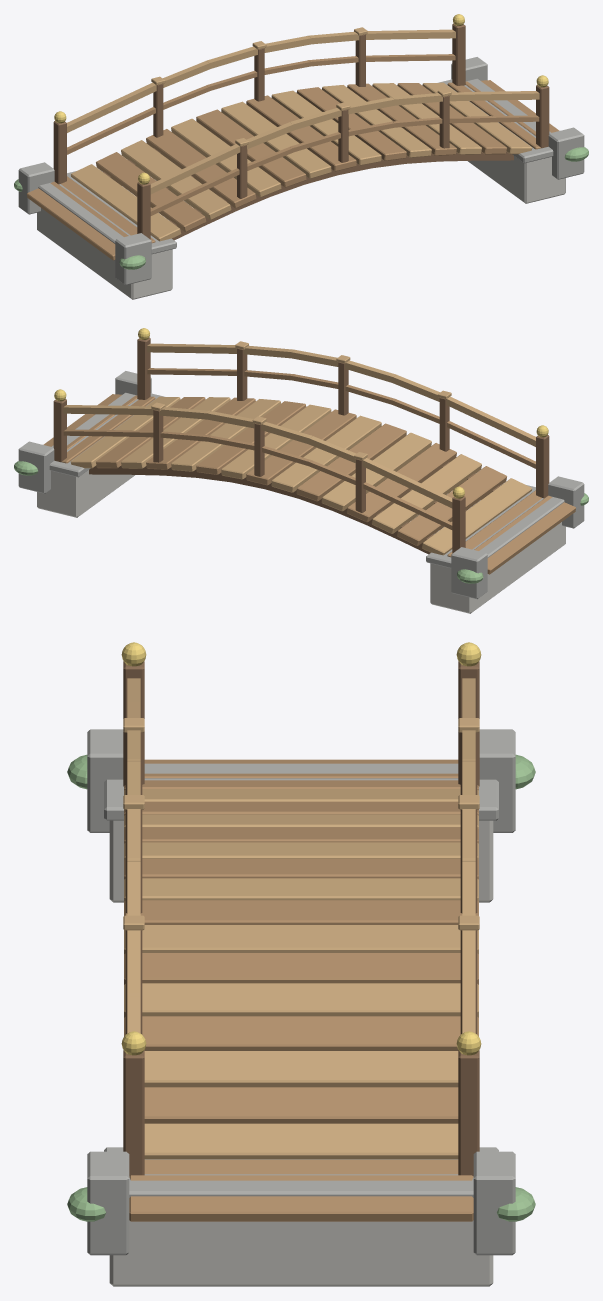
File: bridge.glb
The picture shows the model from 3 angles, top to bottom: view 1: azimuth 30°, elevation 25°; view 2: azimuth 150°, elevation 25°; view 3: azimuth 270°, elevation 25°; orthographic projection. The views are drawn at different scales.
Visible parts, largest first — view 1: AbutmentCore_-1, AbutmentCore_1, Plank_3, Plank_1, Plank_2, Plank_4, Plank_6, Plank_7, Plank_5, EntryRamp_-1, Plank_8, AbutmentCap_-1 (+44 smaller); view 2: AbutmentCore_-1, AbutmentCore_1, Plank_3, Plank_1, Plank_2, Plank_4, Plank_6, Plank_7, Plank_5, EntryRamp_-1, Plank_8, AbutmentCap_-1 (+42 smaller); view 3: AbutmentCore_1, Plank_14, Plank_13, Plank_15, Plank_12, EntryRamp_1, Plank_11, Plank_10, Plank_9, Plank_8, Plank_7, AbutmentCap_1 (+23 smaller).
Boxes of the visible parts, x1,y1,x2,y2 form: AbutmentCore_-1: [37, 208, 172, 299]; AbutmentCore_1: [468, 156, 565, 203]; Plank_3: [121, 140, 231, 219]; Plank_1: [71, 164, 181, 241]; Plank_2: [96, 152, 206, 231]; Plank_4: [146, 129, 256, 208]; Plank_6: [196, 109, 306, 187]; Plank_7: [221, 101, 331, 178]; Plank_5: [171, 118, 281, 197]; EntryRamp_-1: [27, 181, 128, 260]; Plank_8: [246, 95, 356, 171]; AbutmentCap_-1: [38, 171, 176, 254]; AbutmentCore_-1: [430, 522, 565, 613]; AbutmentCore_1: [37, 470, 134, 517]; Plank_3: [371, 454, 481, 533]; Plank_1: [421, 478, 531, 555]; Plank_2: [396, 466, 506, 545]; Plank_4: [346, 443, 456, 522]; Plank_6: [296, 423, 406, 501]; Plank_7: [271, 415, 381, 492]; Plank_5: [321, 432, 431, 511]; EntryRamp_-1: [474, 495, 575, 574]; Plank_8: [246, 409, 356, 485]; AbutmentCap_-1: [426, 485, 564, 568]; AbutmentCore_1: [109, 1220, 493, 1286]; Plank_14: [144, 1087, 458, 1123]; Plank_13: [144, 1051, 458, 1087]; Plank_15: [144, 1123, 458, 1159]; Plank_12: [124, 1016, 478, 1050]; EntryRamp_1: [129, 1175, 473, 1221]; Plank_11: [124, 983, 478, 1017]; Plank_10: [124, 953, 478, 984]; Plank_9: [124, 925, 478, 953]; Plank_8: [124, 900, 478, 924]; Plank_7: [124, 878, 478, 901]; AbutmentCap_1: [104, 1147, 498, 1197].
Bounding box in the file's own units: 7.14 × 2.02 × 3.11.
